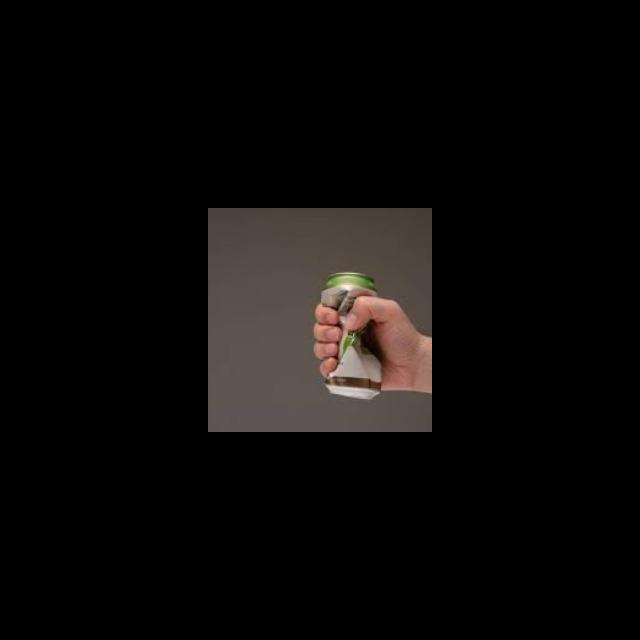metal: (318, 268, 385, 403)
